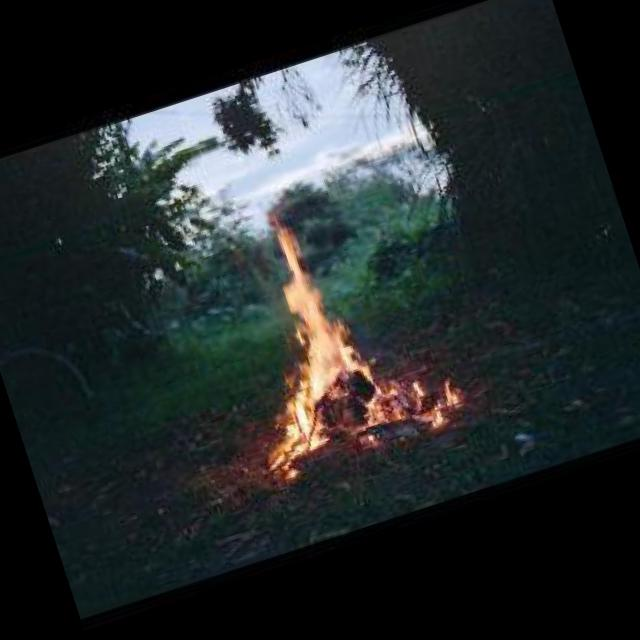fire: (200, 170, 472, 487)
